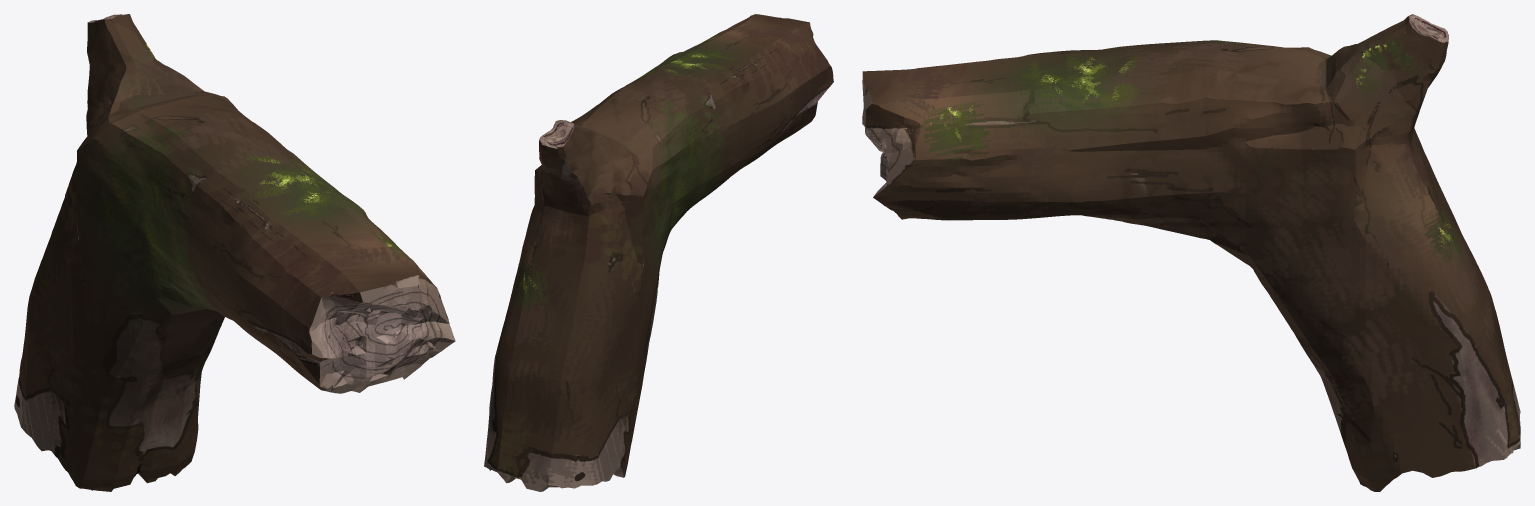
The model's file is pistol.fbx.
3 renders of one model, left to right at view 1: azimuth 30°, elevation 25°; view 2: azimuth 150°, elevation 25°; view 3: azimuth 270°, elevation 25°, orthographic. The views are drawn at different scales.
Visible parts, largest first — view 1: pistol barrel.003, pistol barrel.002; view 2: pistol barrel.003, pistol barrel.002; view 3: pistol barrel.003, pistol barrel.002.
Boxes of the visible parts, x1,y1,x2,y2 form: pistol barrel.003: [14, 14, 296, 491]; pistol barrel.002: [182, 147, 455, 393]; pistol barrel.003: [484, 76, 719, 491]; pistol barrel.002: [629, 14, 833, 200]; pistol barrel.003: [1153, 14, 1520, 491]; pistol barrel.002: [862, 44, 1153, 227].
Size of the model in its own units: 121 by 363 by 481.
